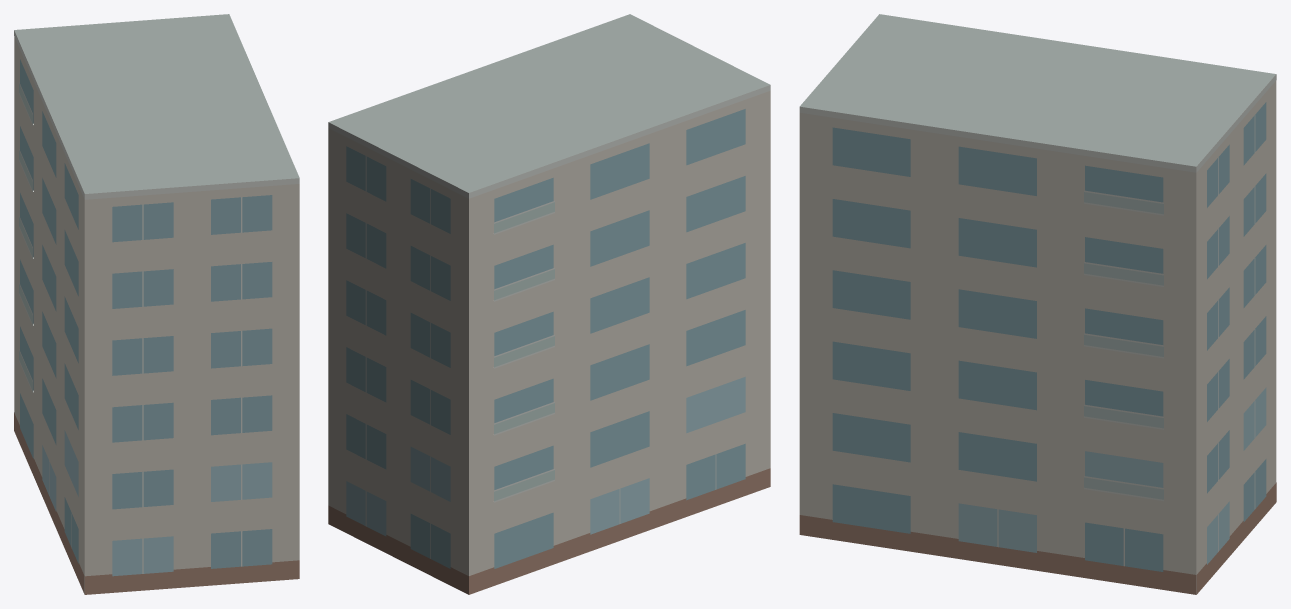
Rendered from survey-upis-32704596.glb.
3 views of the same model, side by side, from view 1: azimuth 30°, elevation 25°; view 2: azimuth 150°, elevation 25°; view 3: azimuth 270°, elevation 25° (orthographic). The views are drawn at different scales.
Parts seen in each view (by area): view 1: survey-upis-32704596.tmp; view 2: survey-upis-32704596.tmp; view 3: survey-upis-32704596.tmp.
Part boxes in pixels (x1=…): survey-upis-32704596.tmp: x1=14, y1=14, x2=299, y2=594; survey-upis-32704596.tmp: x1=328, y1=14, x2=770, y2=594; survey-upis-32704596.tmp: x1=799, y1=14, x2=1276, y2=594.
Size of the model in its own units: 13.17 by 17.2 by 17.37.
